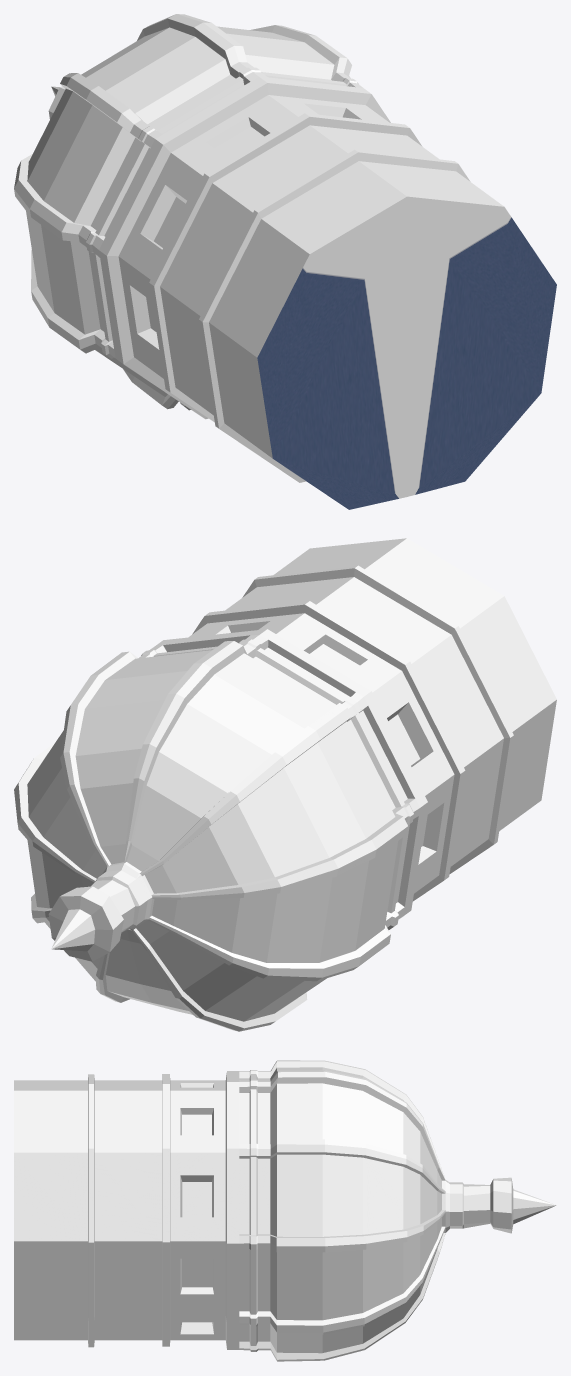
Rendered from venice_building_7.fbx.
The picture shows the model from 3 angles, top to bottom: view 1: azimuth 30°, elevation 25°; view 2: azimuth 150°, elevation 25°; view 3: azimuth 270°, elevation 25°; orthographic projection. The views are drawn at different scales.
Parts seen in each view (by area): view 1: Cylinder.040; view 2: Cylinder.040; view 3: Cylinder.040.
Boxes of the visible parts, bbox=[...] form: Cylinder.040: bbox=[14, 14, 556, 509]; Cylinder.040: bbox=[14, 538, 556, 1031]; Cylinder.040: bbox=[14, 1060, 556, 1361].
Bounding box in the file's own units: 1377 × 1317 × 2447.
